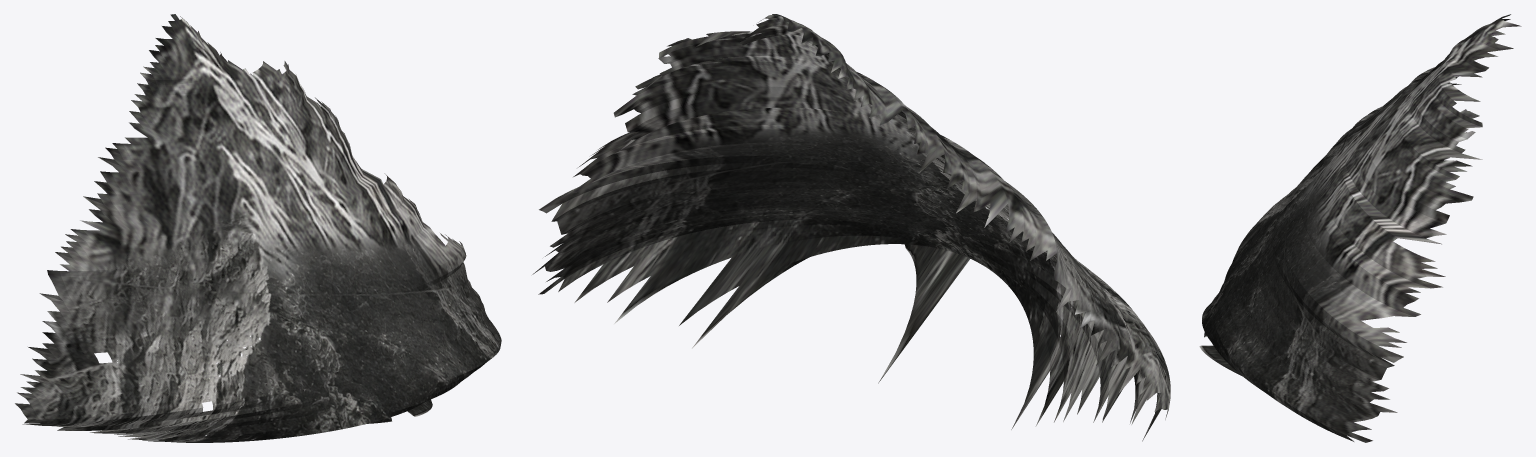
The model's file is mountain.obj.
The picture shows the model from 3 angles, left to right: view 1: azimuth 30°, elevation 25°; view 2: azimuth 150°, elevation 25°; view 3: azimuth 270°, elevation 25°; orthographic projection. The views are drawn at different scales.
Visible parts, largest first — view 1: StationaryMountain; view 2: StationaryMountain; view 3: StationaryMountain.
Part boxes in pixels (x1,y1,x2,y2): StationaryMountain: (15, 14, 501, 442); StationaryMountain: (532, 14, 1170, 441); StationaryMountain: (1199, 14, 1521, 442).
Bounding box in the file's own units: 665 × 470 × 411.
1 material, 1 textured.
